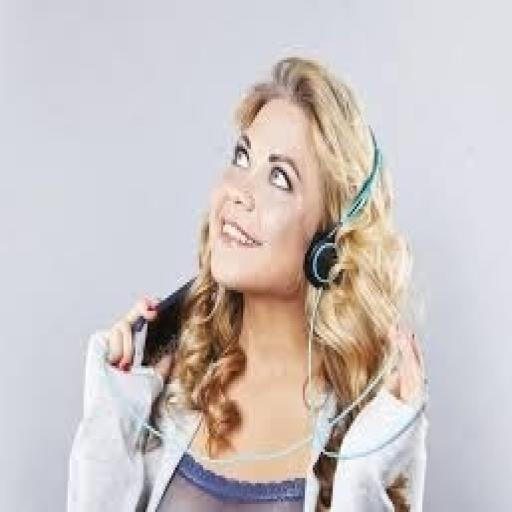listening_to_music: (62, 52, 432, 510)
